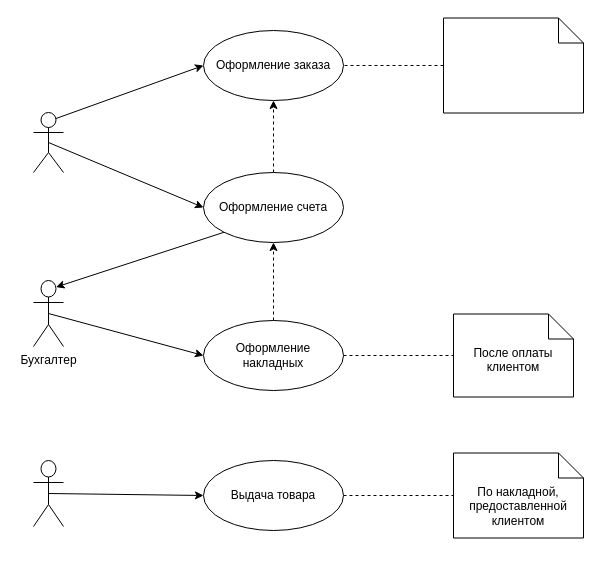
Image size: 601x564. Some labels were removed from this diagram. The centre of each missing label's shape, as x and y in pixels:
"Кладовщик" belongs at point 48,493.
"Менеджер" belongs at point 48,142.
"Сначала проверяет наличие продуктов на складе" belongs at point 513,65.
